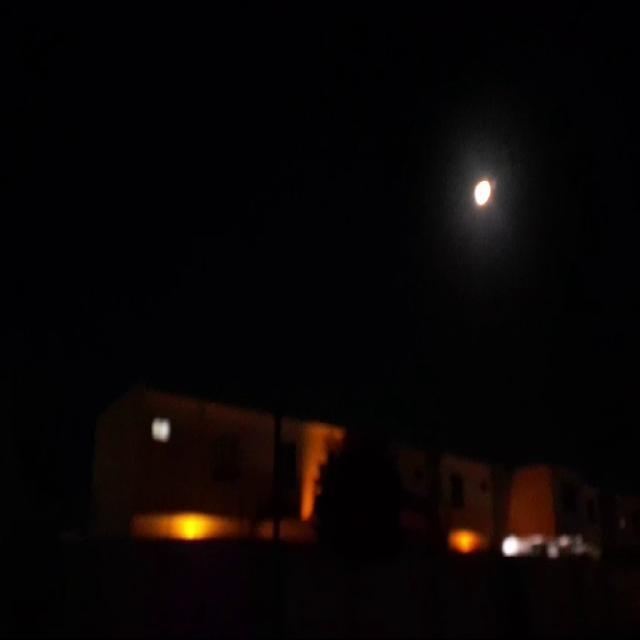moon: (472, 177, 495, 211)
